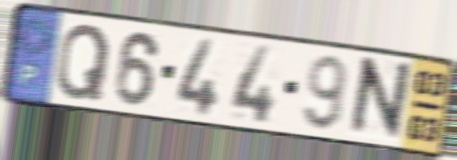4: (227, 41, 280, 126), (174, 36, 222, 120)
6: (112, 30, 163, 108)
9: (300, 53, 351, 134)
N: (344, 54, 415, 142)
Q: (53, 21, 113, 102)
